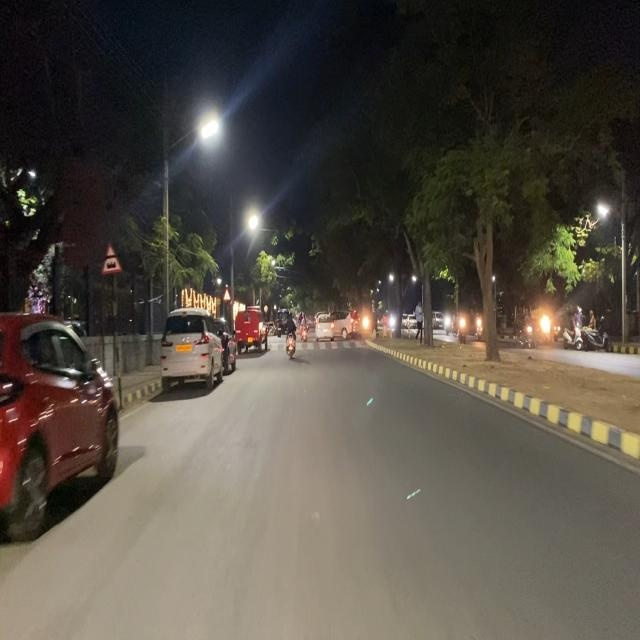bien_nguy_hiem: (101, 240, 123, 276)
